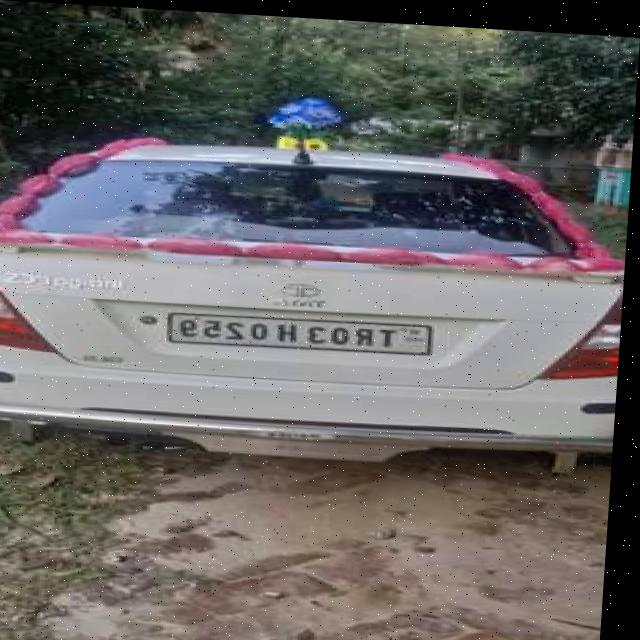plate: (171, 306, 441, 351)
